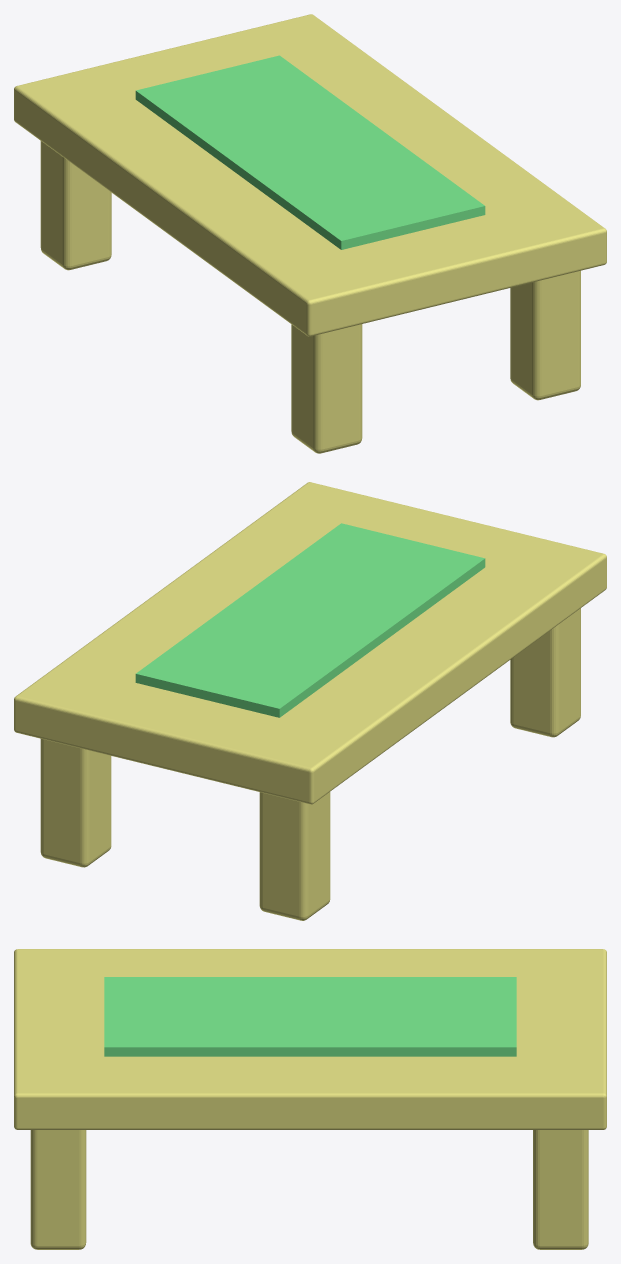
The model's file is desk.fbx.
The picture shows the model from 3 angles, top to bottom: view 1: azimuth 30°, elevation 25°; view 2: azimuth 150°, elevation 25°; view 3: azimuth 270°, elevation 25°; orthographic projection.
Parts seen in each view (by area): view 1: Cube, Cube.003, Cube.007, Cube.004; view 2: Cube, Cube.004, Cube.001, Cube.003; view 3: Cube, Cube.007, Cube.001.
Boxes of the visible parts, bbox=[...] form: Cube: bbox=[14, 14, 606, 336]; Cube.003: bbox=[291, 324, 362, 453]; Cube.007: bbox=[510, 270, 580, 400]; Cube.004: bbox=[40, 141, 111, 270]; Cube: bbox=[14, 482, 606, 804]; Cube.004: bbox=[259, 792, 330, 920]; Cube.001: bbox=[40, 739, 111, 867]; Cube.003: bbox=[510, 608, 580, 737]; Cube: bbox=[14, 949, 606, 1129]; Cube.007: bbox=[30, 1130, 86, 1249]; Cube.001: bbox=[533, 1130, 588, 1249].
Size of the model in its own units: 2 by 1.11 by 3.42.
